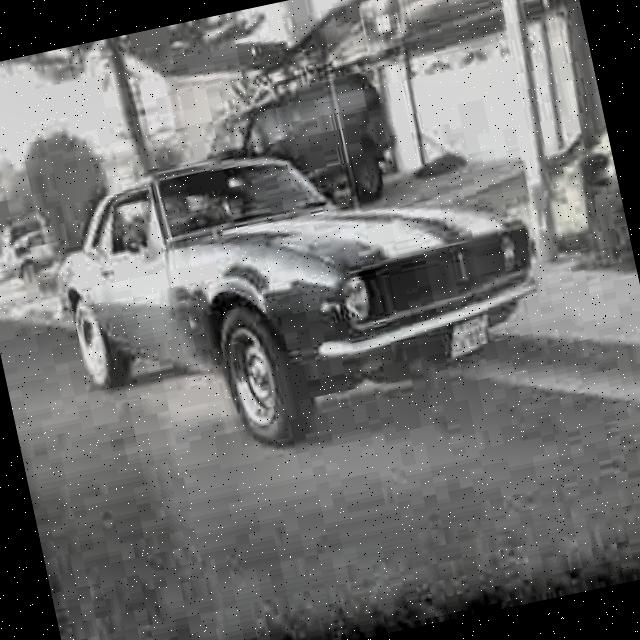license_plate: (446, 312, 498, 365)
